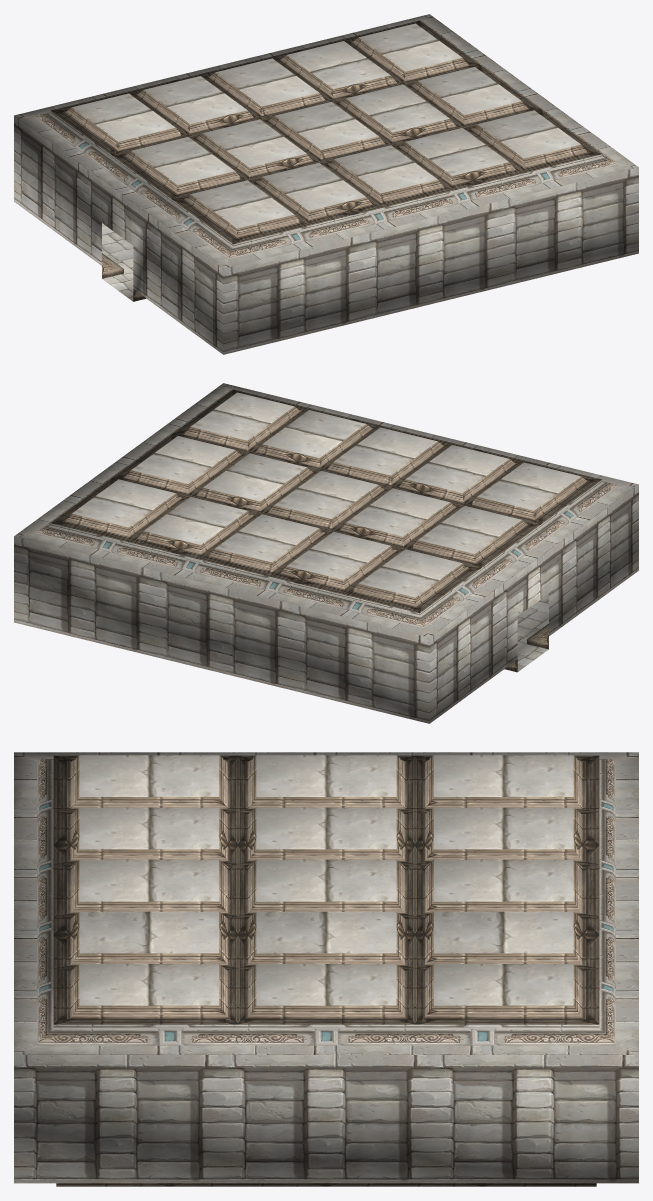
The model's file is stormwind_206.fbx.
3 renders of one model, top to bottom at view 1: azimuth 30°, elevation 25°; view 2: azimuth 150°, elevation 25°; view 3: azimuth 270°, elevation 25°, orthographic. The views are drawn at different scales.
Parts seen in each view (by area): view 1: stormwind_206_60, stormwind_206_40, stormwind_206_61, stormwind_206_62, stormwind_206_52; view 2: stormwind_206_60, stormwind_206_40, stormwind_206_61, stormwind_206_62, stormwind_206_52; view 3: stormwind_206_60, stormwind_206_40, stormwind_206_61, stormwind_206_62.
Boxes of the visible parts, x1,y1,x2,y2 form: stormwind_206_60: [14, 14, 638, 354]; stormwind_206_40: [72, 23, 580, 228]; stormwind_206_61: [51, 20, 601, 301]; stormwind_206_62: [35, 21, 617, 259]; stormwind_206_52: [102, 223, 133, 301]; stormwind_206_60: [14, 383, 638, 723]; stormwind_206_40: [72, 392, 580, 597]; stormwind_206_61: [51, 389, 601, 672]; stormwind_206_62: [35, 390, 617, 628]; stormwind_206_52: [517, 593, 548, 671]; stormwind_206_60: [14, 752, 638, 1183]; stormwind_206_40: [79, 755, 573, 1005]; stormwind_206_61: [53, 755, 599, 1186]; stormwind_206_62: [37, 758, 615, 1045].
Size of the model in its own units: 51.47 by 13.55 by 44.92.
